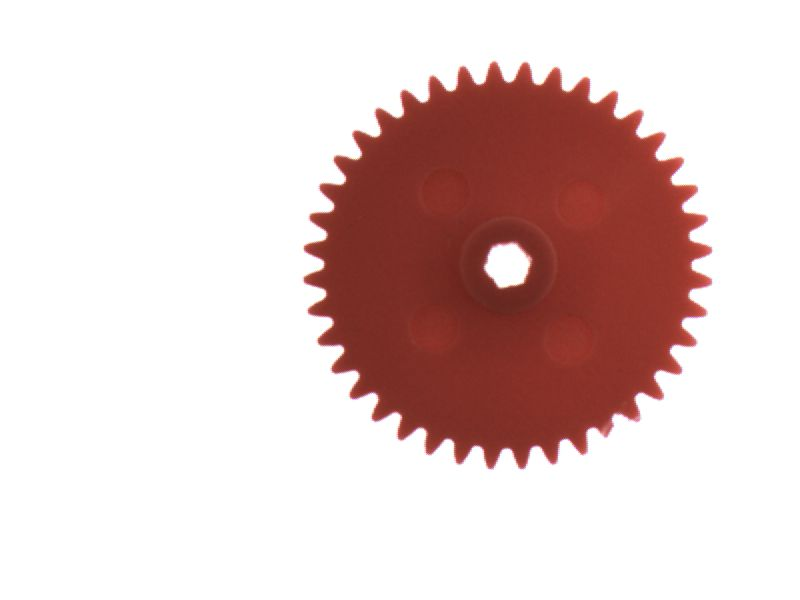defect_break: (585, 409, 637, 453)
